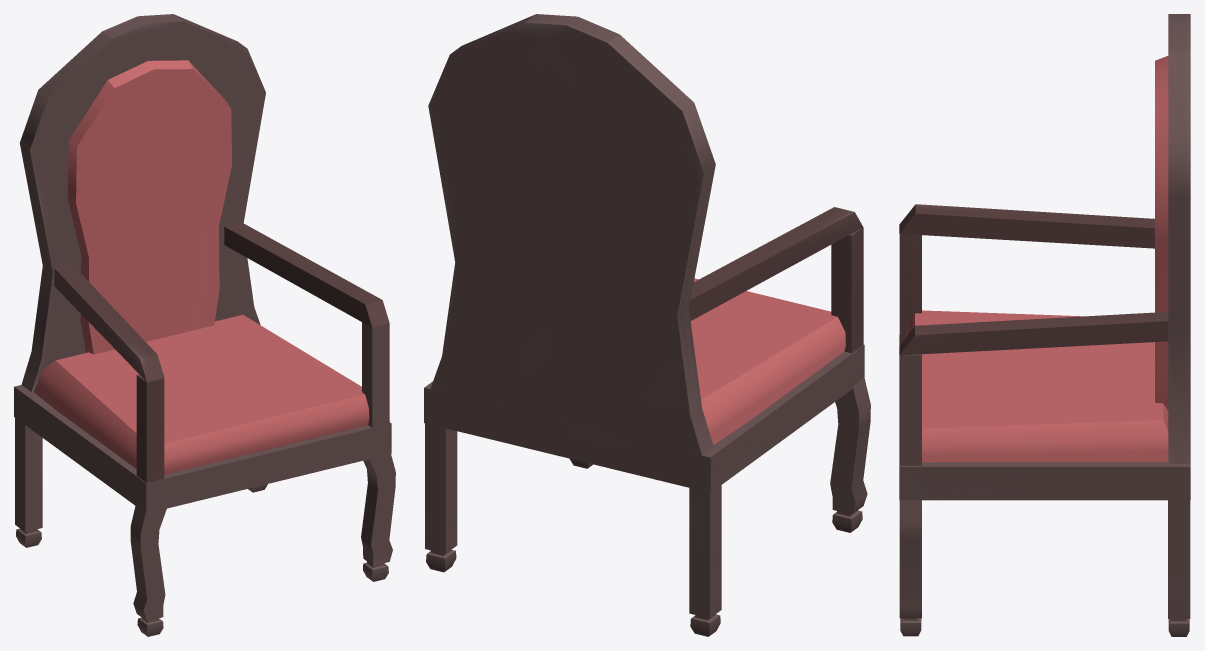
Rendered from chair.fbx.
The picture shows the model from 3 angles, left to right: view 1: azimuth 30°, elevation 25°; view 2: azimuth 150°, elevation 25°; view 3: azimuth 270°, elevation 25°; orthographic projection. The views are drawn at different scales.
Visible parts, largest first — view 1: pCube12, pCube11, pCube6, pCube2, pCube5, pCube9, pCube10, pCube13, pCube7, pCube8; view 2: pCube6, pCube2, pCube11, pCube10, pCube5, pCube13, pCube14, pCube7; view 3: pCube11, pCube2, pCube6, pCube9, pCube10, pCube12, pCube14, pCube5, pCube8, pCube7.
Part boxes in pixels (box(x1,y1,x2,y2)): pCube12: box(67, 60, 231, 354); pCube11: box(33, 314, 369, 474); pCube6: box(20, 14, 265, 392); pCube2: box(14, 385, 391, 513); pCube5: box(130, 454, 395, 636); pCube9: box(224, 222, 389, 327); pCube10: box(54, 263, 164, 382); pCube13: box(15, 418, 42, 547); pCube7: box(136, 374, 164, 482); pCube8: box(362, 322, 389, 427); pCube6: box(428, 14, 715, 455); pCube2: box(424, 344, 864, 492); pCube11: box(690, 278, 845, 444); pCube10: box(689, 207, 862, 320); pCube5: box(570, 378, 870, 532); pCube13: box(689, 485, 721, 636); pCube14: box(425, 423, 457, 572); pCube7: box(831, 227, 863, 353); pCube11: box(906, 310, 1168, 462); pCube2: box(899, 335, 1190, 500); pCube6: box(1168, 14, 1190, 463); pCube9: box(899, 312, 1168, 355); pCube10: box(899, 204, 1154, 248); pCube12: box(1155, 56, 1168, 410); pCube14: box(1168, 500, 1190, 636); pCube5: box(899, 500, 921, 636); pCube8: box(899, 354, 921, 465); pCube7: box(899, 234, 921, 344).
Bounding box in the file's own units: 14.56 × 27.04 × 13.05.
